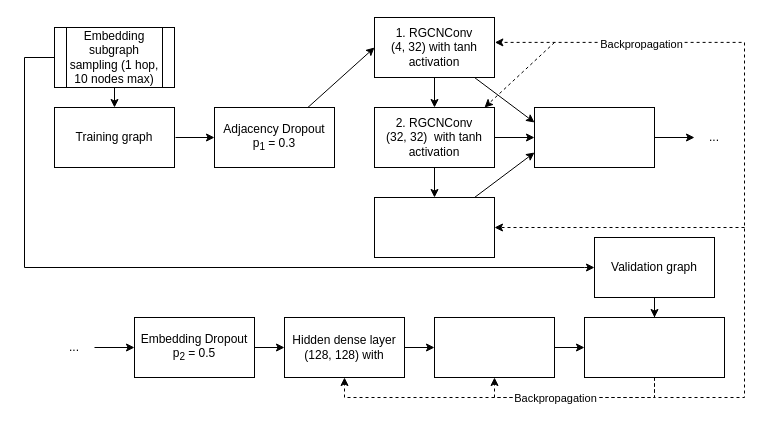
The diagram is 770 pixels wide and 423 high, and some of its shapes have lost their labels. Each missing label, with the box of its shape:
3. RGCNConv (32, 32) with tanh activation: (374, 196, 494, 258)
Concatenation and sum pooing with ReLU activation: (534, 106, 654, 168)
Evaluation: Log softmax followed by NLL + ARR loss: (584, 316, 724, 378)
Output dense layer (128, 5): (434, 316, 554, 378)
